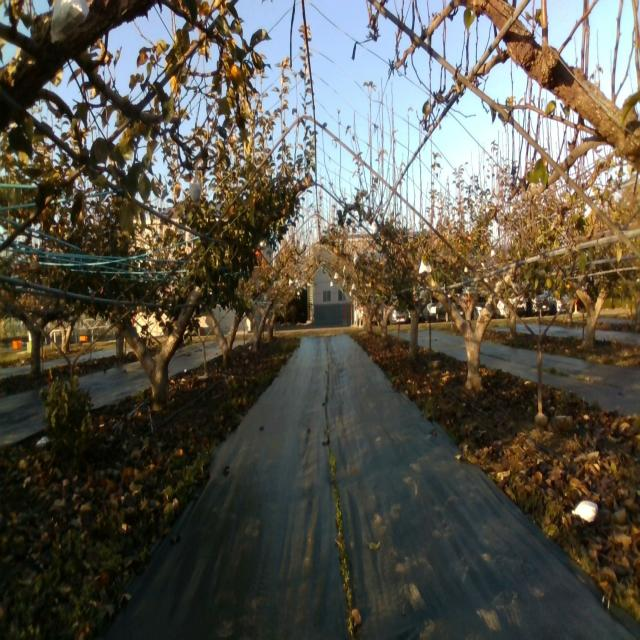pearbags: (50, 0, 90, 44), (189, 167, 202, 207)
